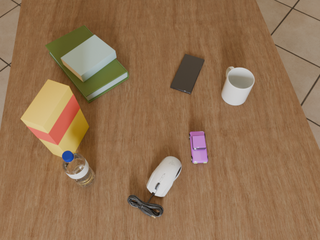book: (45, 25, 129, 103), (61, 35, 116, 82)
bottle: (62, 150, 95, 187)
box: (21, 80, 89, 157)
cup: (221, 67, 254, 105)
mouse: (147, 156, 181, 197)
phone: (170, 54, 204, 94)
toy_car: (189, 131, 208, 163)
